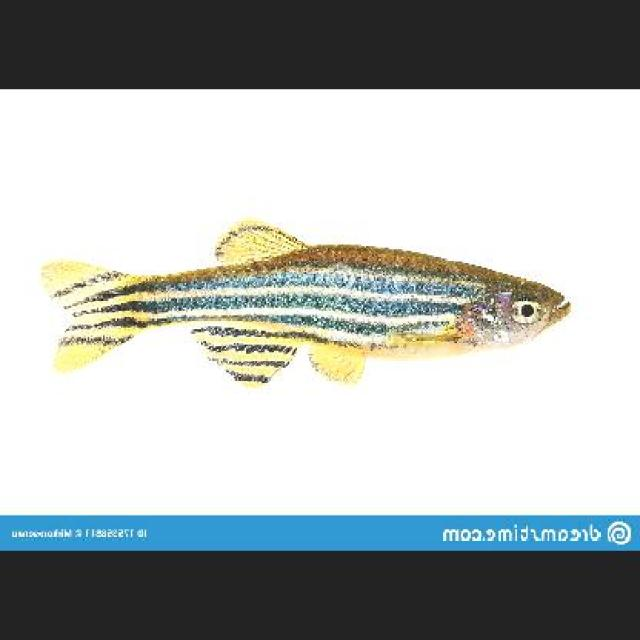ZebraFish: (38, 218, 578, 382)
